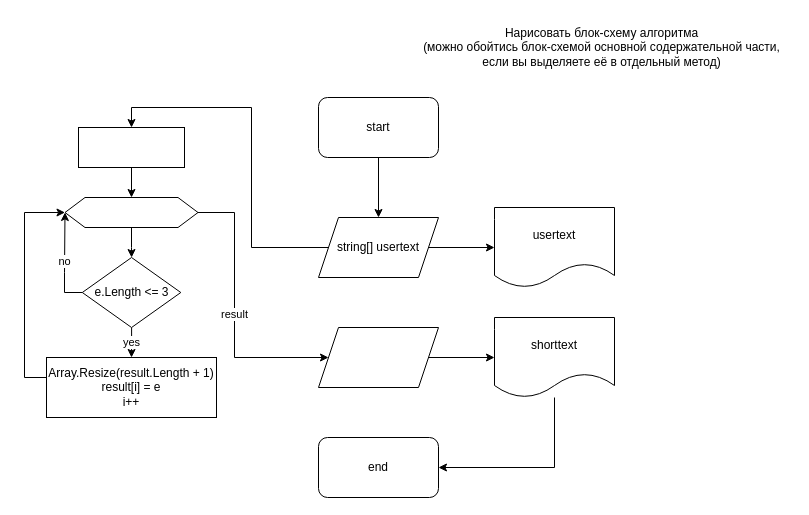
The diagram is 809 pixels wide and 515 high, and some of its shapes have lost their labels. Each missing label, with the centre of its shape:
"foreach (e in usertext)" goes at point 131,212.
"string[] result = { } i = 0" goes at point 131,147.
"string[] shorttext" goes at point 378,357.
